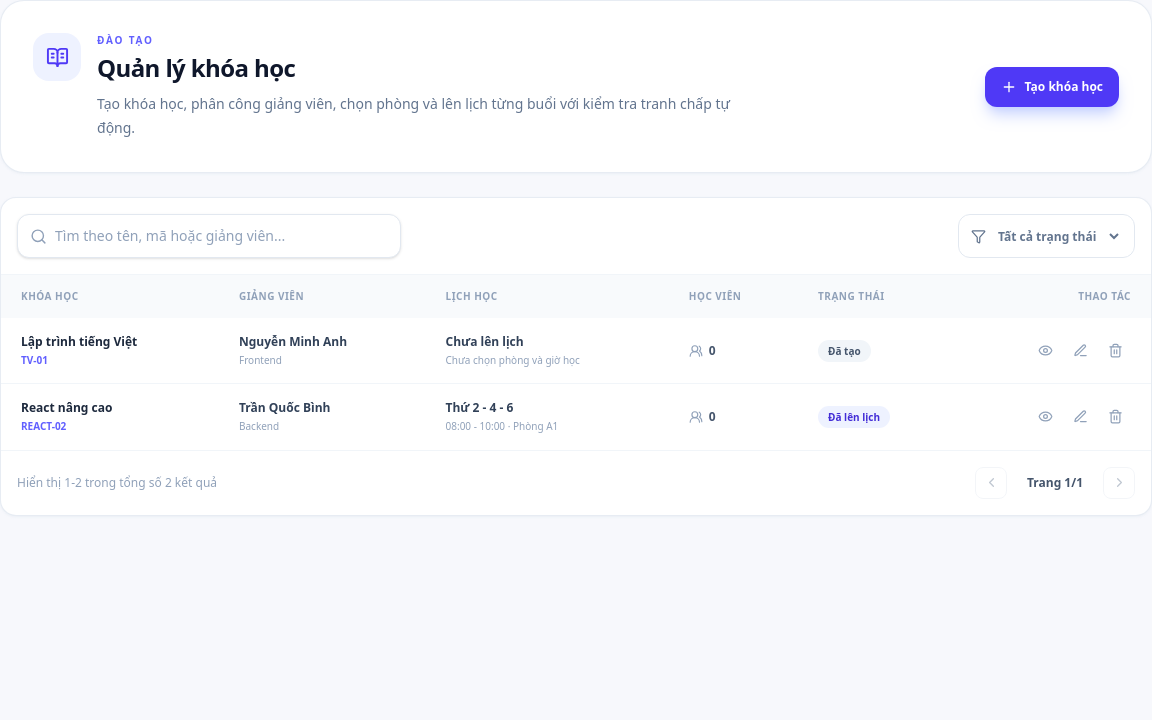
Test: CoursesPage › tìm kiếm tiếng Việt không phân biệt hoa thường
Type "lẬP TRÌNH TIẾNG việt" into the search field with placeholder "Tìm theo tên, mã hoặc giảng viên..." at (222, 236), box [55,226,388,246]
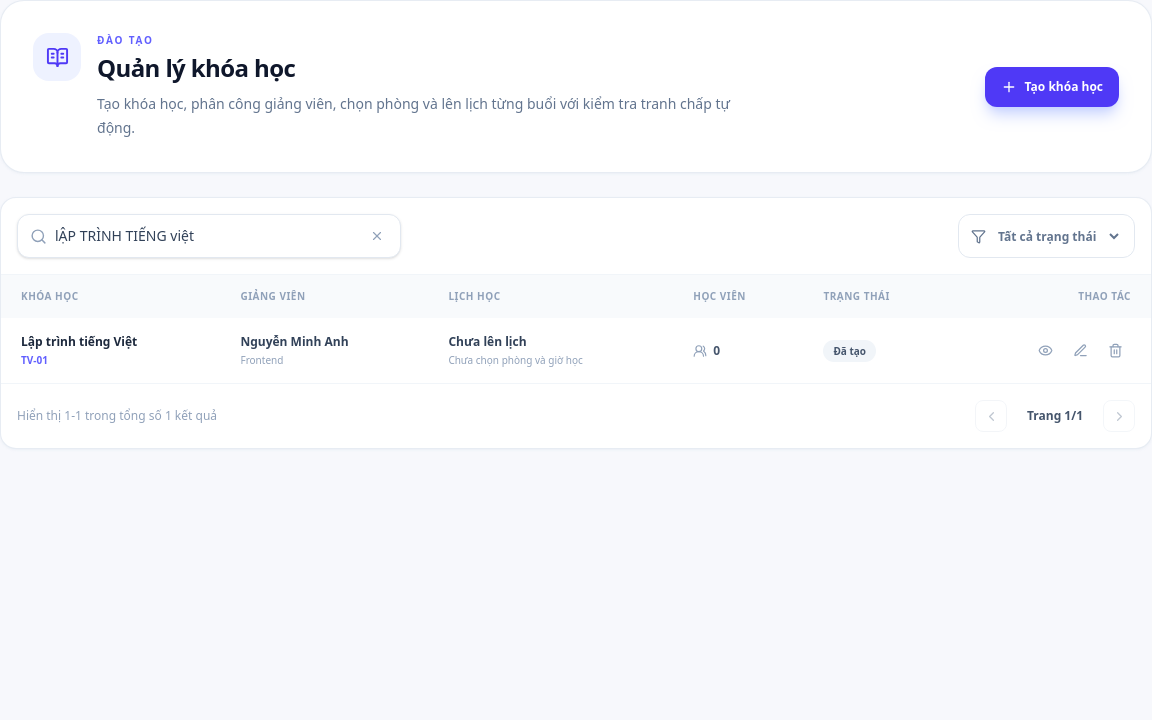
Expected: the text "Lập trình tiếng Việt" is shown, [21,333,137,350]
Now the text "React nâng cao" is gone
